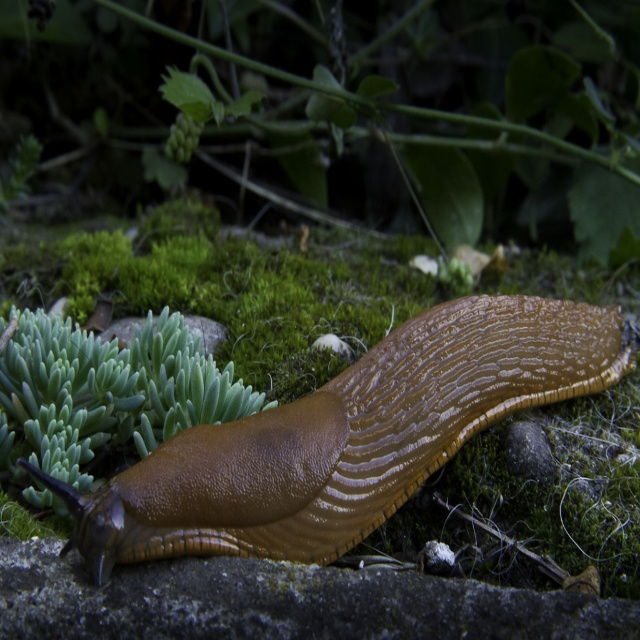Snail: (17, 294, 636, 587)
